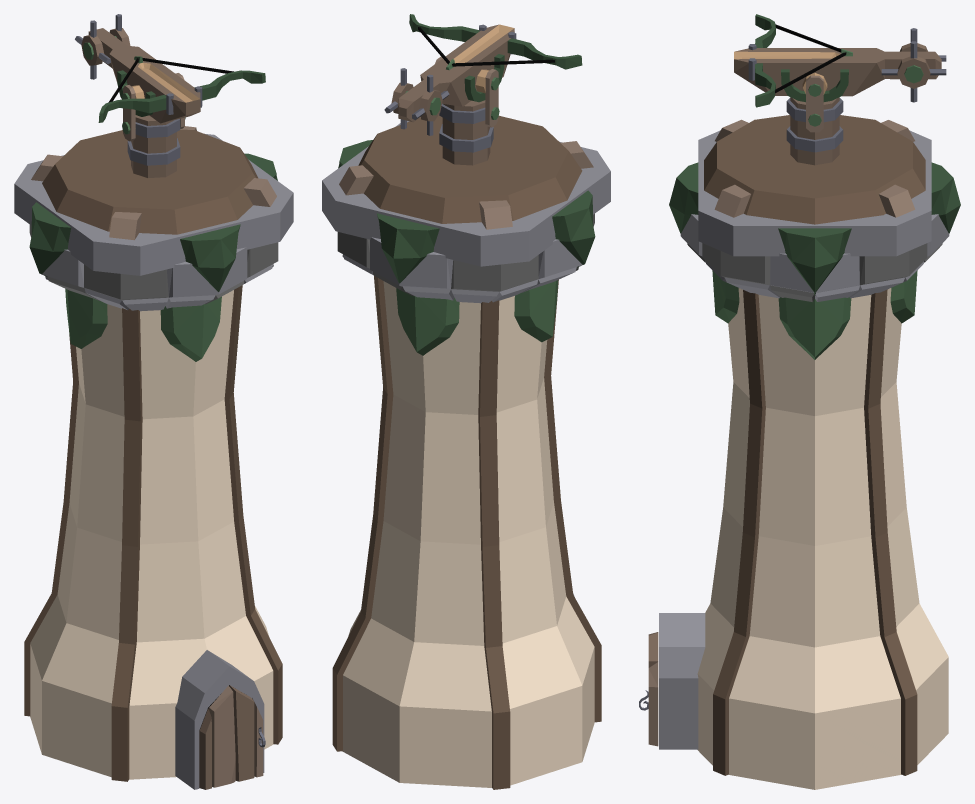
File: Ballista_Tower_LVL_1.gltf
The picture shows the model from 3 angles, left to right: view 1: azimuth 30°, elevation 25°; view 2: azimuth 150°, elevation 25°; view 3: azimuth 270°, elevation 25°; orthographic projection. The views are drawn at different scales.
Visible parts, largest first — view 1: Ballista_Tower_LVL_1_Body, Ballista_Tower_LVL_1_Head; view 2: Ballista_Tower_LVL_1_Body, Ballista_Tower_LVL_1_Head; view 3: Ballista_Tower_LVL_1_Body, Ballista_Tower_LVL_1_Head.
Boxes of the visible parts, x1=… form: Ballista_Tower_LVL_1_Body: x1=24, y1=264, x2=282, y2=789; Ballista_Tower_LVL_1_Head: x1=14, y1=14, x2=293, y2=300; Ballista_Tower_LVL_1_Body: x1=332, y1=254, x2=601, y2=789; Ballista_Tower_LVL_1_Head: x1=322, y1=14, x2=610, y2=291; Ballista_Tower_LVL_1_Body: x1=639, y1=243, x2=948, y2=789; Ballista_Tower_LVL_1_Head: x1=669, y1=14, x2=960, y2=292.
Size of the model in its own units: 2.73 by 7.05 by 2.95.
Materials: 2 (2 with a texture image).
